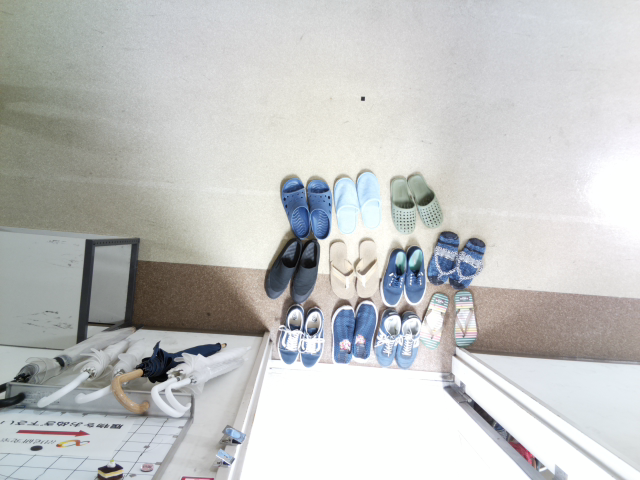Copy of Copy of Copy of Copy of Copy of Copy of Copy of Copy of Copy of shoes: (394, 310, 423, 367)
Copy of Copy of Copy of Copy of Copy of Copy of Copy of Copy of shoes: (373, 308, 401, 367)
Copy of Copy of Copy of Copy of Copy of Copy of Copy of shoes: (405, 245, 428, 304)
Copy of Copy of Copy of Copy of Copy of Copy of shoes: (381, 247, 409, 307)
Copy of Copy of Copy of Copy of Copy of sandal: (418, 292, 449, 348)
Copy of Copy of Copy of Copy of Copy of shoes: (277, 304, 305, 366)
Copy of Copy of Copy of Copy of Copy of slipper: (407, 173, 444, 227)
Copy of Copy of Copy of Copy of sandal: (452, 289, 476, 345)
Copy of Copy of Copy of Copy of shoes: (298, 306, 325, 368)
Copy of Copy of Copy of Copy of slipper: (388, 174, 416, 234)
Copy of Copy of Copy of sandal: (450, 236, 486, 289)
Copy of Copy of Copy of shoes: (349, 300, 377, 362)
Copy of Copy of Copy of slipper: (354, 170, 382, 230)
Copy of Copy of sandal: (426, 230, 461, 285)
Copy of Copy of shoes: (330, 305, 356, 364)
Copy of Copy of slipper: (333, 176, 356, 234)
Copy of sandal: (354, 238, 381, 300)
Copy of shoes: (290, 239, 321, 302)
Copy of slipper: (306, 177, 332, 239)
sandal: (329, 240, 354, 299)
shoes: (264, 237, 302, 299)
slipper: (280, 177, 310, 238)
